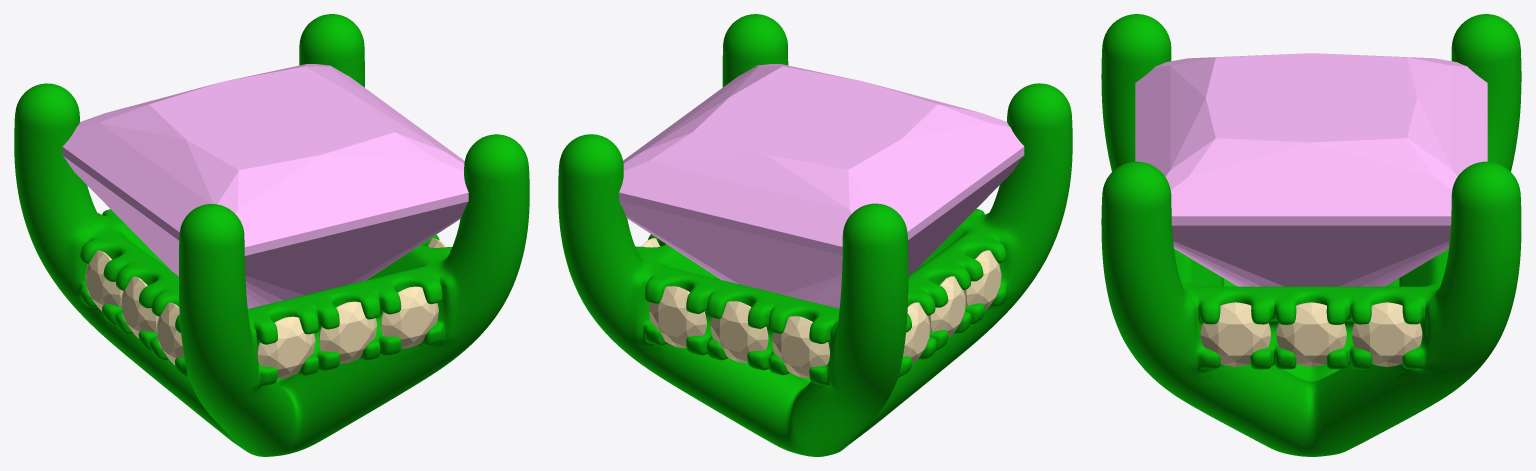
The picture shows the model from 3 angles, left to right: view 1: azimuth 30°, elevation 25°; view 2: azimuth 150°, elevation 25°; view 3: azimuth 270°, elevation 25°; orthographic projection. The views are drawn at different scales.
Parts seen in each view (by area): view 1: Metal01, Diamond_Princess, Diamond_Round, Diamond_Round.001, Diamond_Round.002, Diamond_Round.009, Diamond_Round.011, Diamond_Round.010; view 2: Metal01, Diamond_Princess, Diamond_Round.007, Diamond_Round.006, Diamond_Round.008, Diamond_Round.009, Diamond_Round.010, Diamond_Round.011; view 3: Metal01, Diamond_Princess, Diamond_Round.004, Diamond_Round.005, Diamond_Round.003.
Boxes of the visible parts, left/top/right/bottom form: Metal01: left=14, top=14, right=529, bottom=456; Diamond_Princess: left=62, top=64, right=468, bottom=309; Diamond_Round: left=380, top=286, right=438, bottom=348; Diamond_Round.001: left=257, top=316, right=315, bottom=378; Diamond_Round.002: left=319, top=301, right=376, bottom=363; Diamond_Round.009: left=121, top=276, right=158, bottom=338; Diamond_Round.011: left=85, top=250, right=122, bottom=311; Diamond_Round.010: left=156, top=302, right=184, bottom=364; Metal01: left=558, top=14, right=1072, bottom=456; Diamond_Princess: left=619, top=64, right=1024, bottom=308; Diamond_Round.007: left=649, top=286, right=706, bottom=347; Diamond_Round.006: left=772, top=316, right=829, bottom=377; Diamond_Round.008: left=710, top=301, right=768, bottom=362; Diamond_Round.009: left=928, top=276, right=965, bottom=337; Diamond_Round.010: left=964, top=250, right=1001, bottom=310; Diamond_Round.011: left=903, top=302, right=930, bottom=364; Metal01: left=1101, top=14, right=1521, bottom=456; Diamond_Princess: left=1135, top=53, right=1487, bottom=286; Diamond_Round.004: left=1352, top=302, right=1422, bottom=366; Diamond_Round.005: left=1200, top=302, right=1270, bottom=366; Diamond_Round.003: left=1276, top=302, right=1346, bottom=366.
Bounding box in the file's own units: 6.57 × 6.17 × 6.57.
